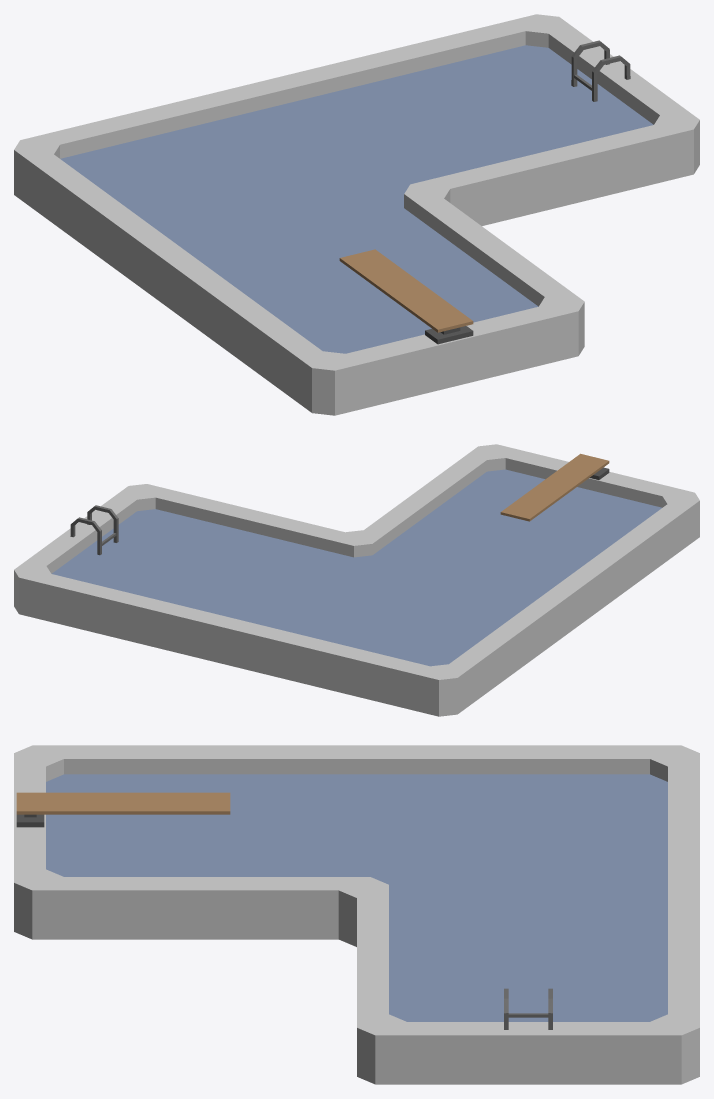
The model's file is Pool_01.fbx.
The picture shows the model from 3 angles, top to bottom: view 1: azimuth 30°, elevation 25°; view 2: azimuth 150°, elevation 25°; view 3: azimuth 270°, elevation 25°; orthographic projection. The views are drawn at different scales.
Visible parts, largest first — view 1: Pool_01; view 2: Pool_01; view 3: Pool_01.
Boxes of the visible parts, <box> form: Pool_01: <box>14,14,699,415</box>; Pool_01: <box>14,444,699,716</box>; Pool_01: <box>14,745,699,1084</box>.
Size of the model in its own units: 400 by 48.61 by 400.
